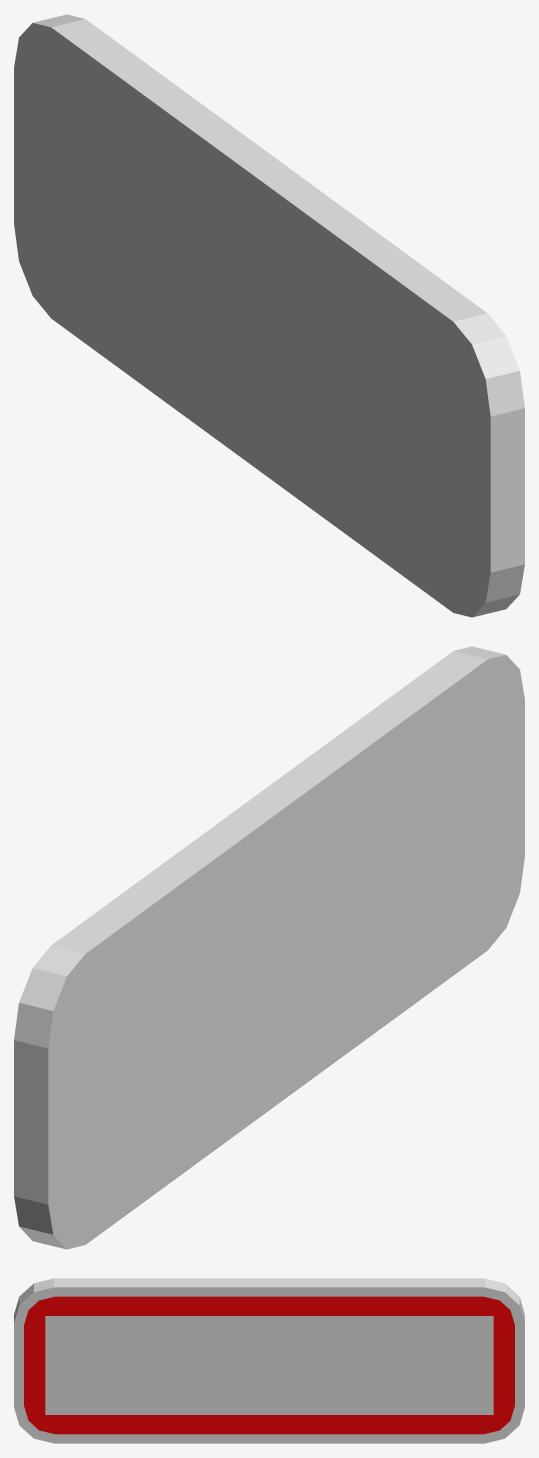
Rendered from panneau.fbx.
3 renders of one model, top to bottom at view 1: azimuth 30°, elevation 25°; view 2: azimuth 150°, elevation 25°; view 3: azimuth 270°, elevation 25°, orthographic. The views are drawn at different scales.
Visible parts, largest first — view 1: Cube; view 2: Cube; view 3: Cube.
Part boxes in pixels (<box>): Cube: <box>14,14,524,617</box>; Cube: <box>14,646,524,1249</box>; Cube: <box>14,1278,524,1443</box>.
Bounding box in the file's own units: 24.69 × 200 × 593.
